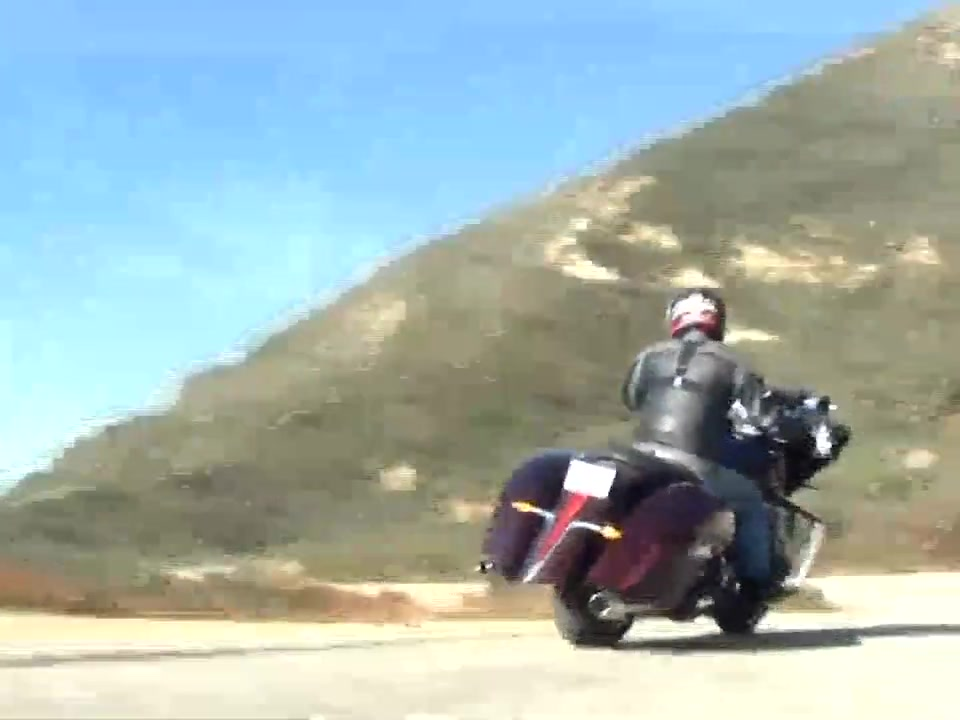motorbike: (477, 367, 855, 649)
